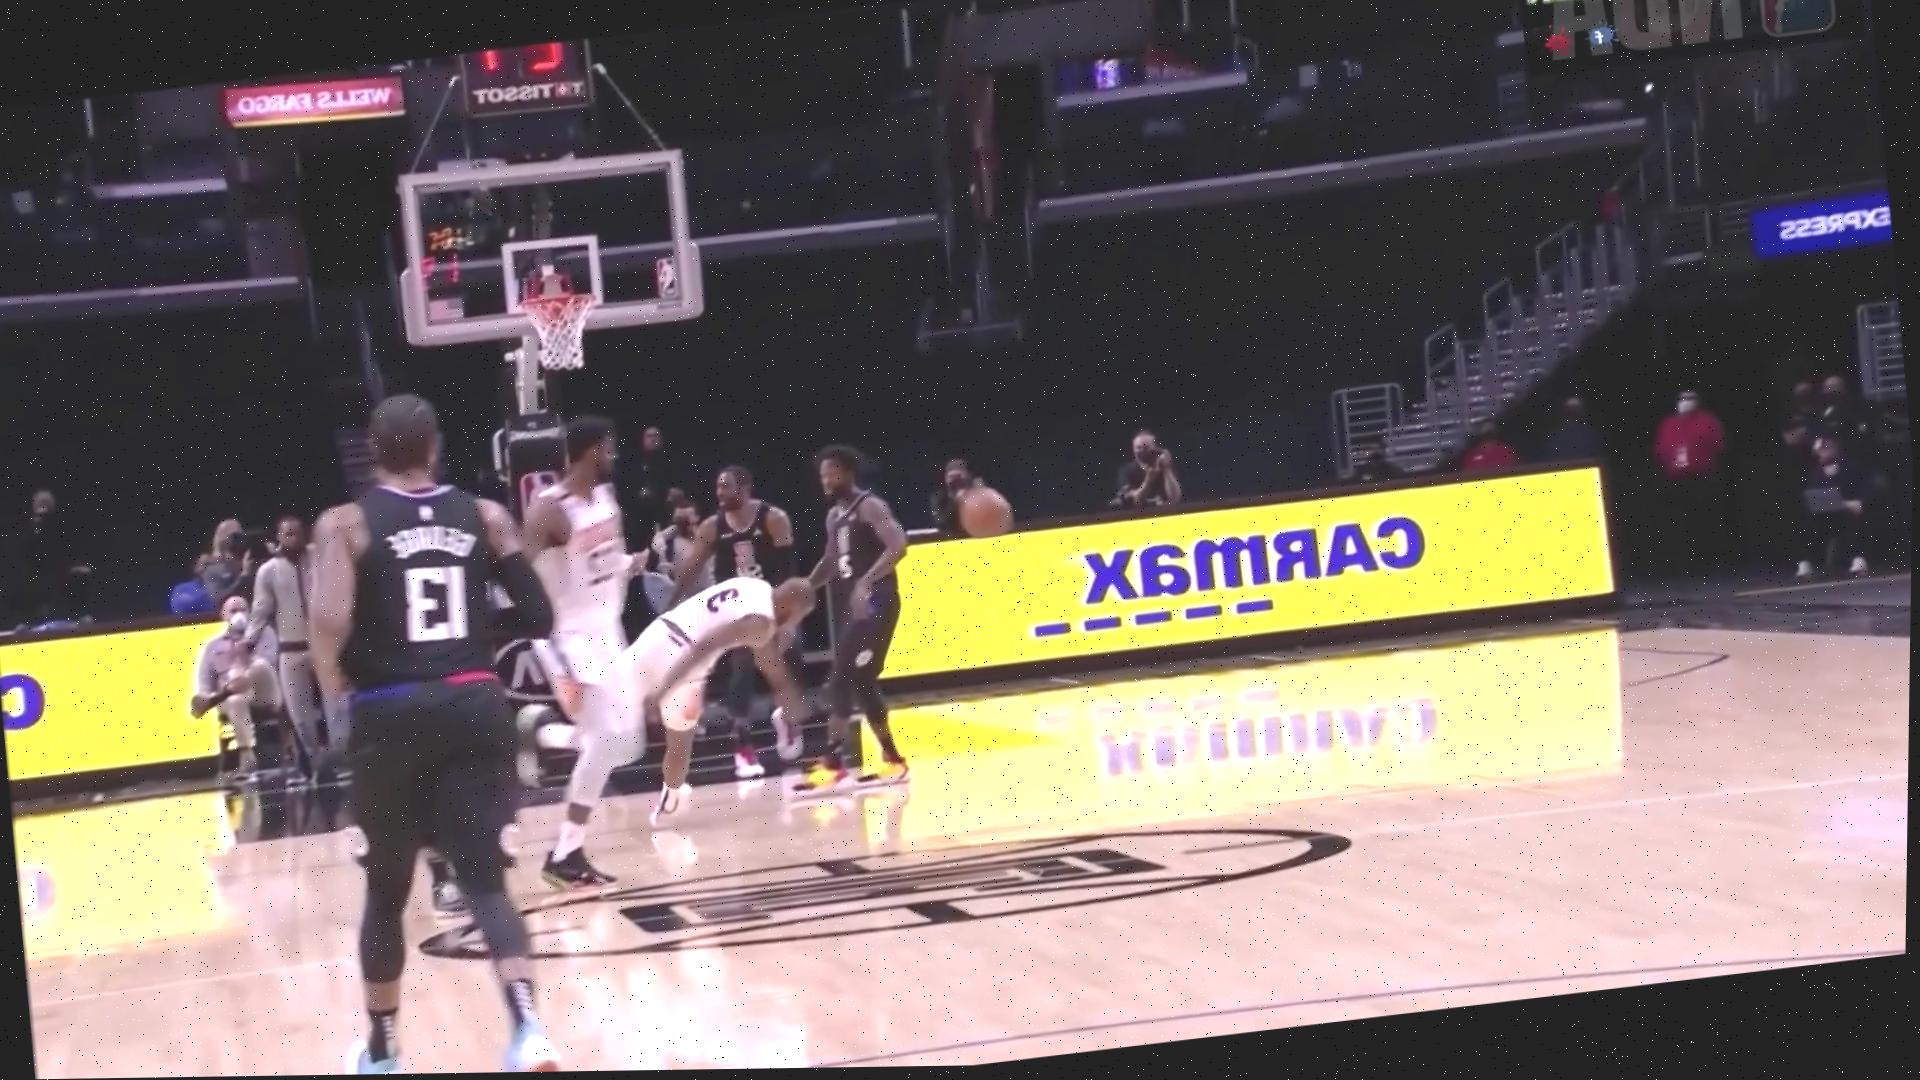no_foul: (625, 418, 945, 832)
